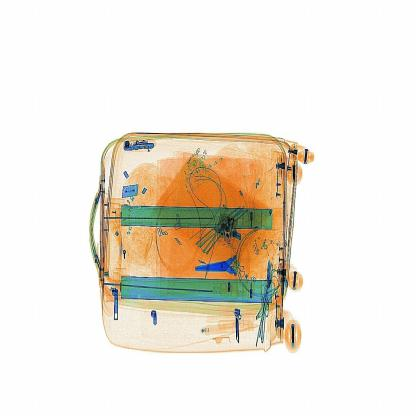gun: (192, 237, 260, 297)
